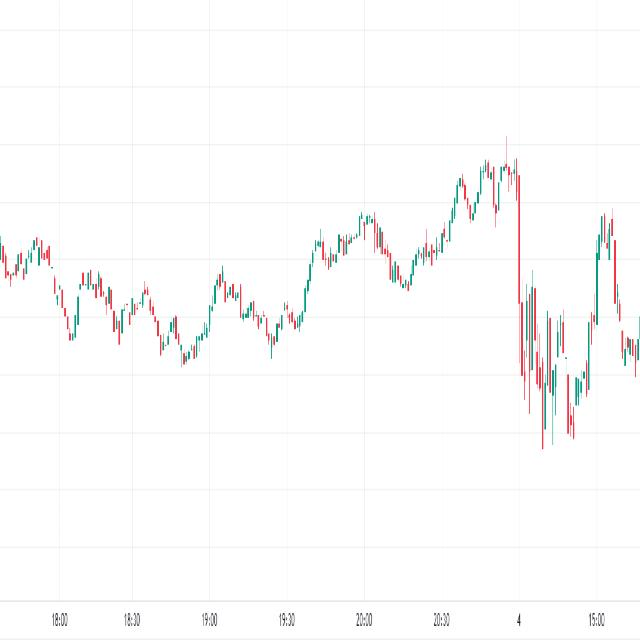Channel-down: (347, 178, 420, 323), (205, 252, 286, 373)
Double-Top: (588, 194, 622, 286)
Falling-Wedge: (0, 186, 192, 377)
